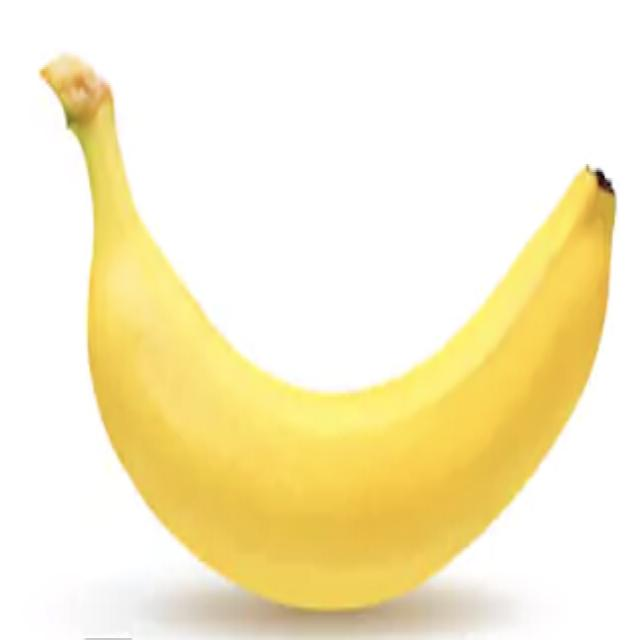Ripe: (31, 36, 634, 624)
